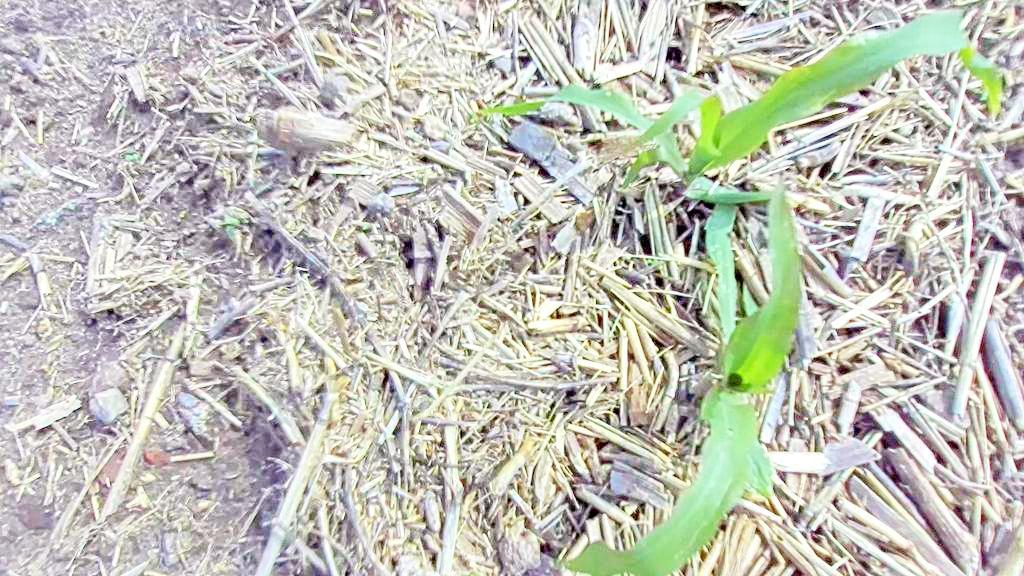BroWeed: (216, 213, 242, 241), (123, 150, 140, 163), (174, 208, 188, 223), (468, 114, 481, 127)
Maize: (553, 146, 862, 576)
